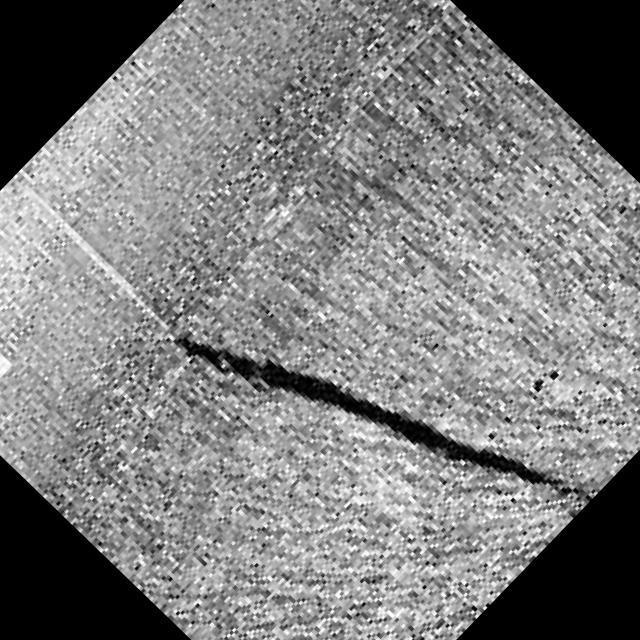defect: (166, 330, 597, 513)
